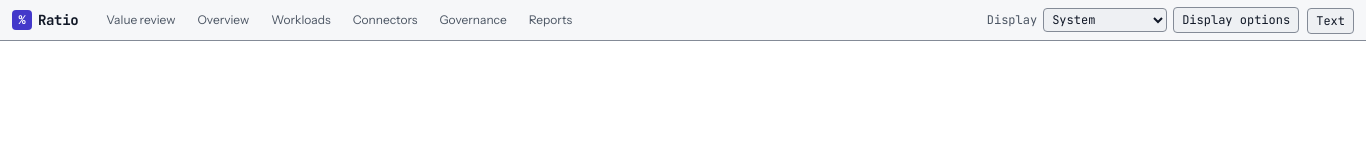
Scenario: TypographyMenu › is a labeled disclosure beside the theme control and Escape closes it
Click the button "Text" at (1331, 20), box [1307,8,1354,34]
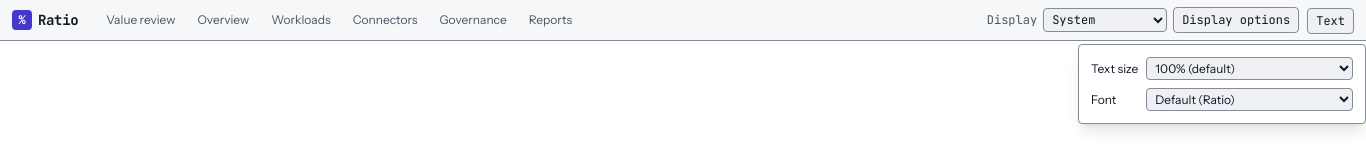
Press Escape in the element with id "typography-panel", box [1078,44,1365,124]
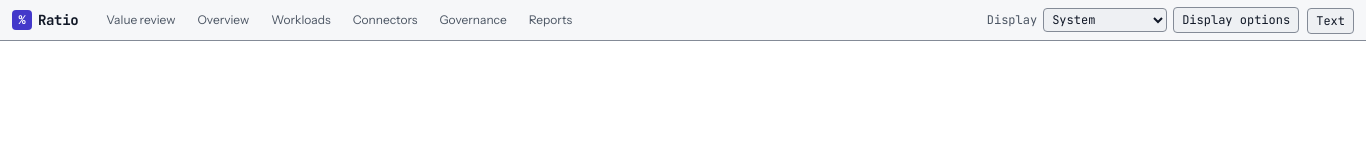
Result: the element with id "typography-panel" is gone
